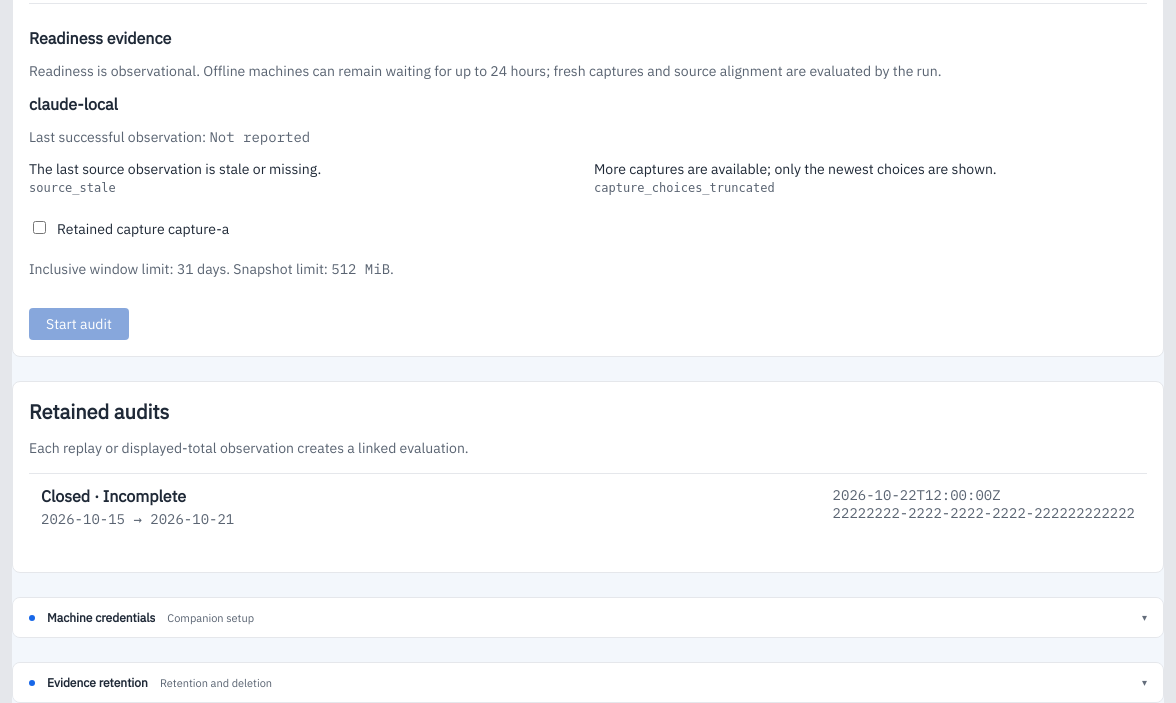
Test: a scope which excluded displayed totals cannot submit a misleading presentation evaluation
(page scrolled)
Click the button with aria-label "Open audit" at point(114, 496), box [29,473,1147,540]
(page scrolled)
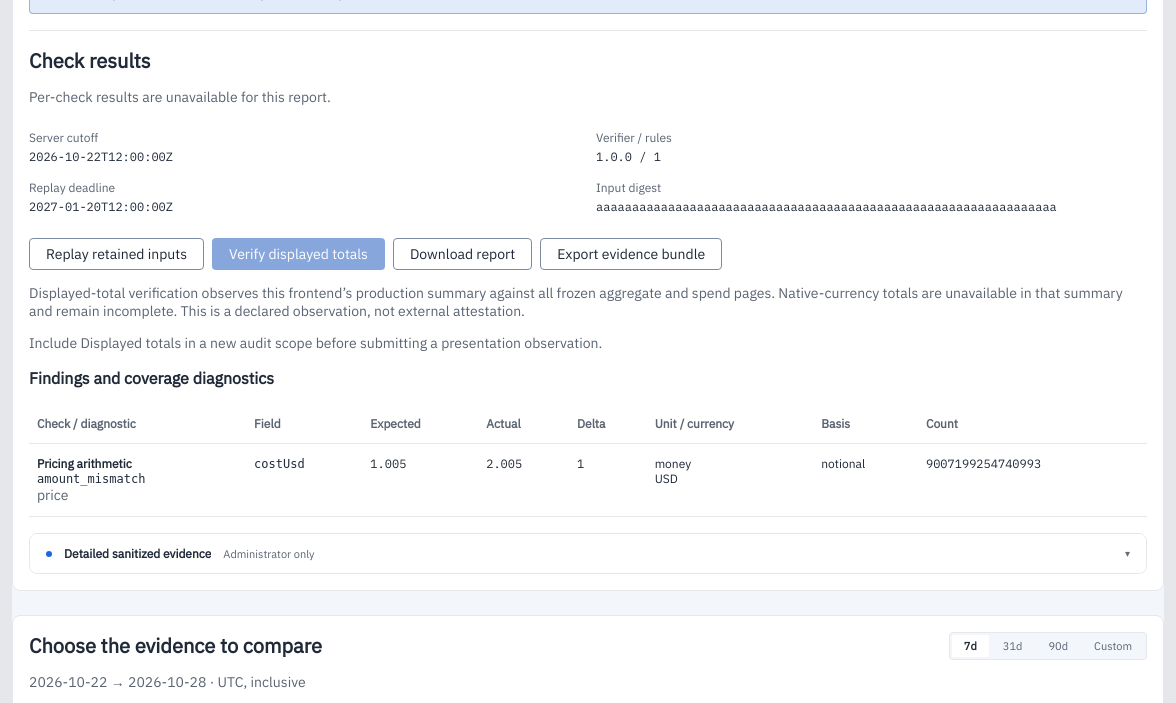
Expected: the button "Verify displayed totals" is disabled, [212,238,385,270]
Expected: the text "Include Displayed totals in a new audit scope" is shown, [29,334,602,352]
